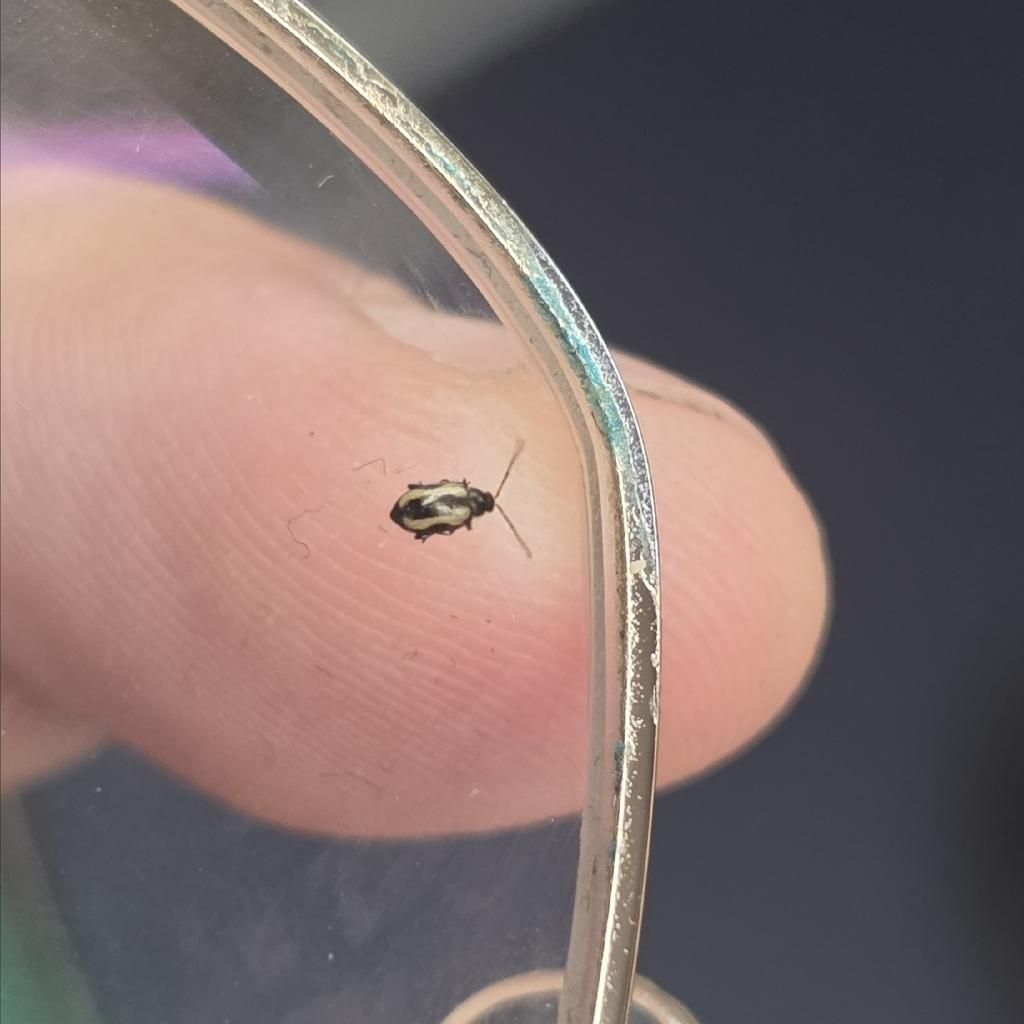flea_beetle: (358, 427, 556, 591)
